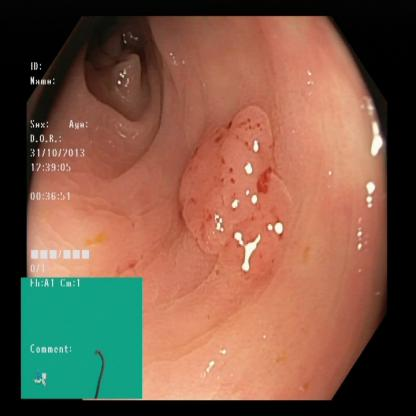Labels: (23, 48, 135, 276), (22, 274, 146, 400)
Polyps: (179, 121, 325, 290)
